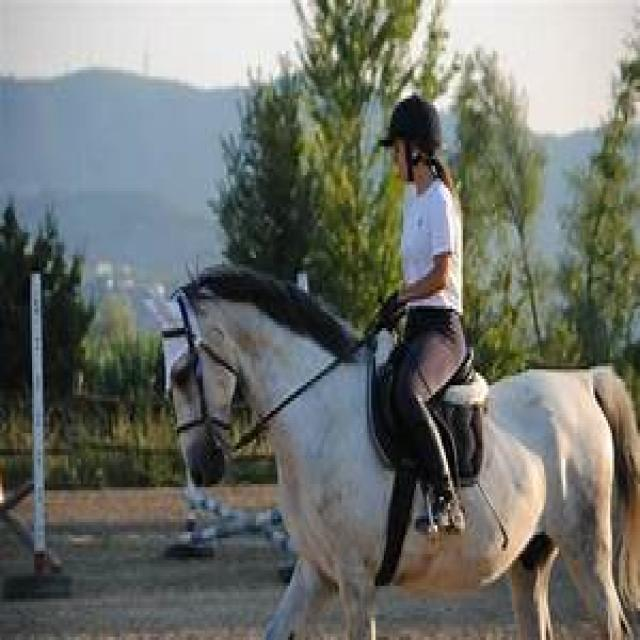animal: (150, 256, 640, 635)
